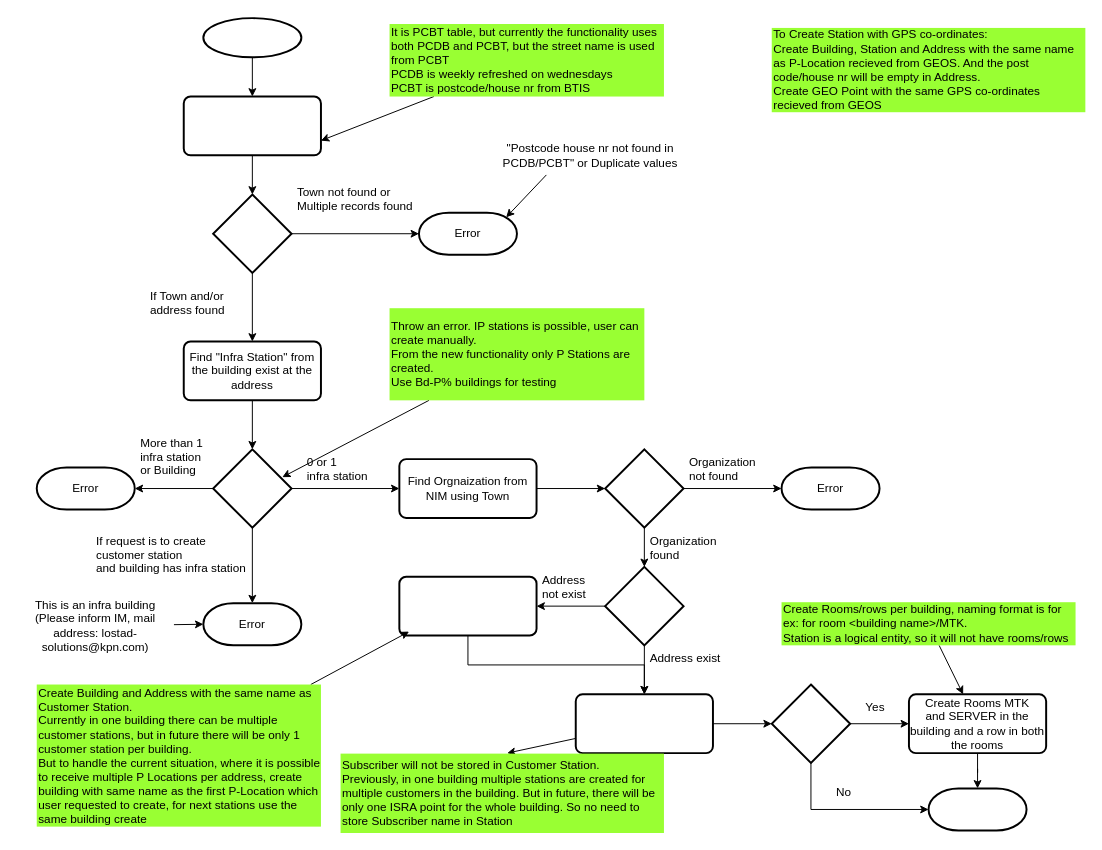
The diagram is 1102 pixels wide and 850 high, and some of its shapes have lost their labels. The shapes that lost their labels are listed below. From the top down, each one's centre as x and y in pixels, then its label:
At point (251, 125): "FindAddress/Town from NIM with postcode/hnr from PCDB".
At point (467, 605): "Create Address and building, and relate them".
At point (643, 723): "Create Station and relate to Operator".
At point (810, 723): "Room required".
